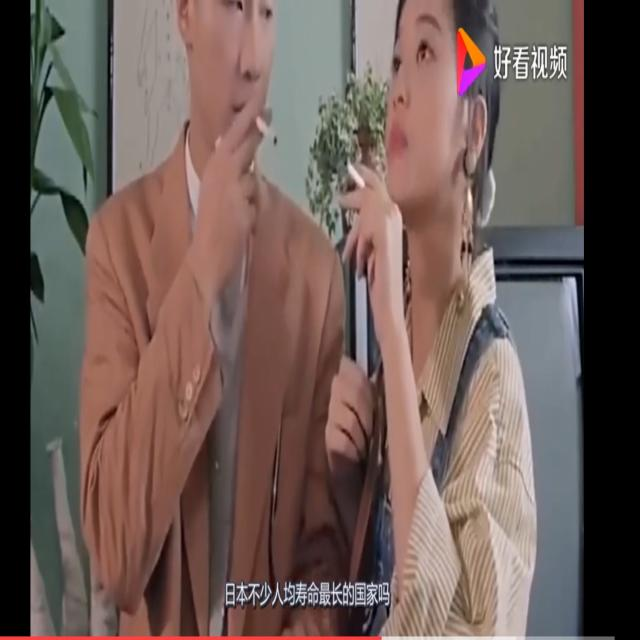smoke: (346, 157, 370, 200), (254, 111, 279, 150)
